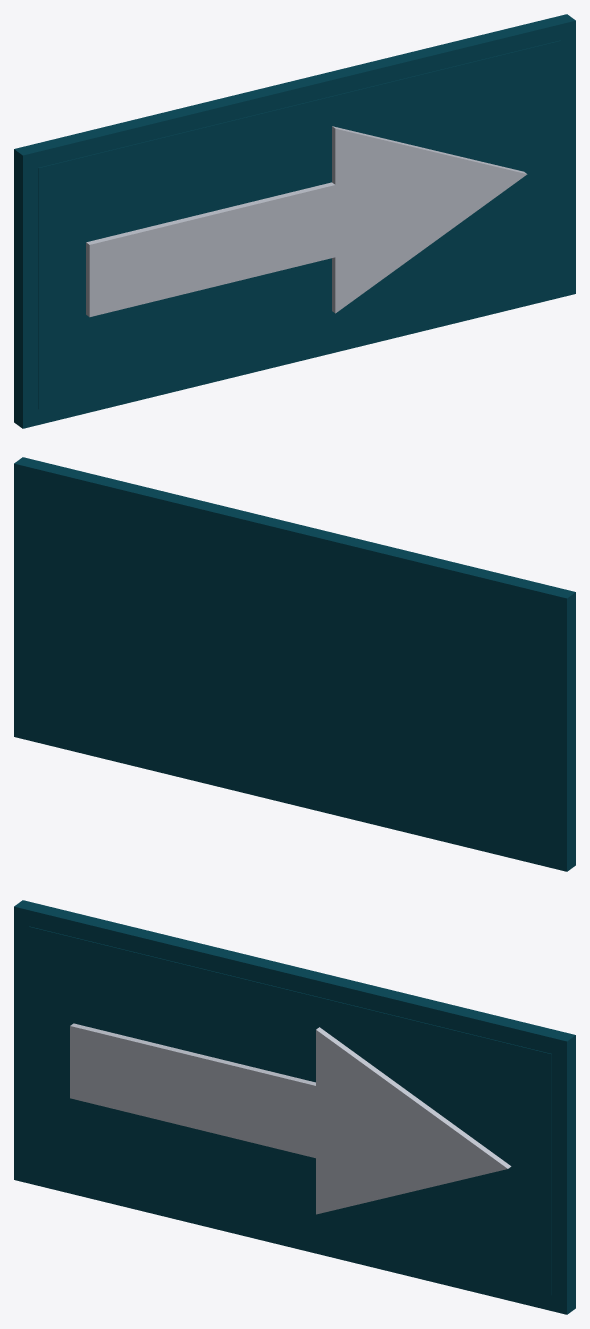
The model's file is SM_Sign_Arrow_Teal.glb.
The picture shows the model from 3 angles, top to bottom: view 1: azimuth 30°, elevation 25°; view 2: azimuth 150°, elevation 25°; view 3: azimuth 330°, elevation 25°; orthographic projection.
Parts seen in each view (by area): view 1: SM_Sign_Arrow_Teal; view 2: SM_Sign_Arrow_Teal; view 3: SM_Sign_Arrow_Teal.
Part boxes in pixels (x1,y1,x2,y2): SM_Sign_Arrow_Teal: (14,14,575,428); SM_Sign_Arrow_Teal: (14,457,575,871); SM_Sign_Arrow_Teal: (14,900,575,1314).
Size of the model in its own units: 0.72 by 0.34 by 0.032.
